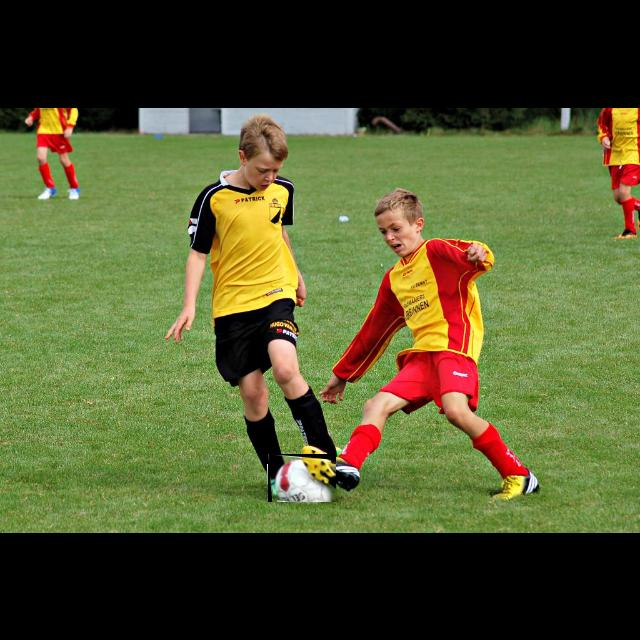Football: (268, 454, 336, 502)
